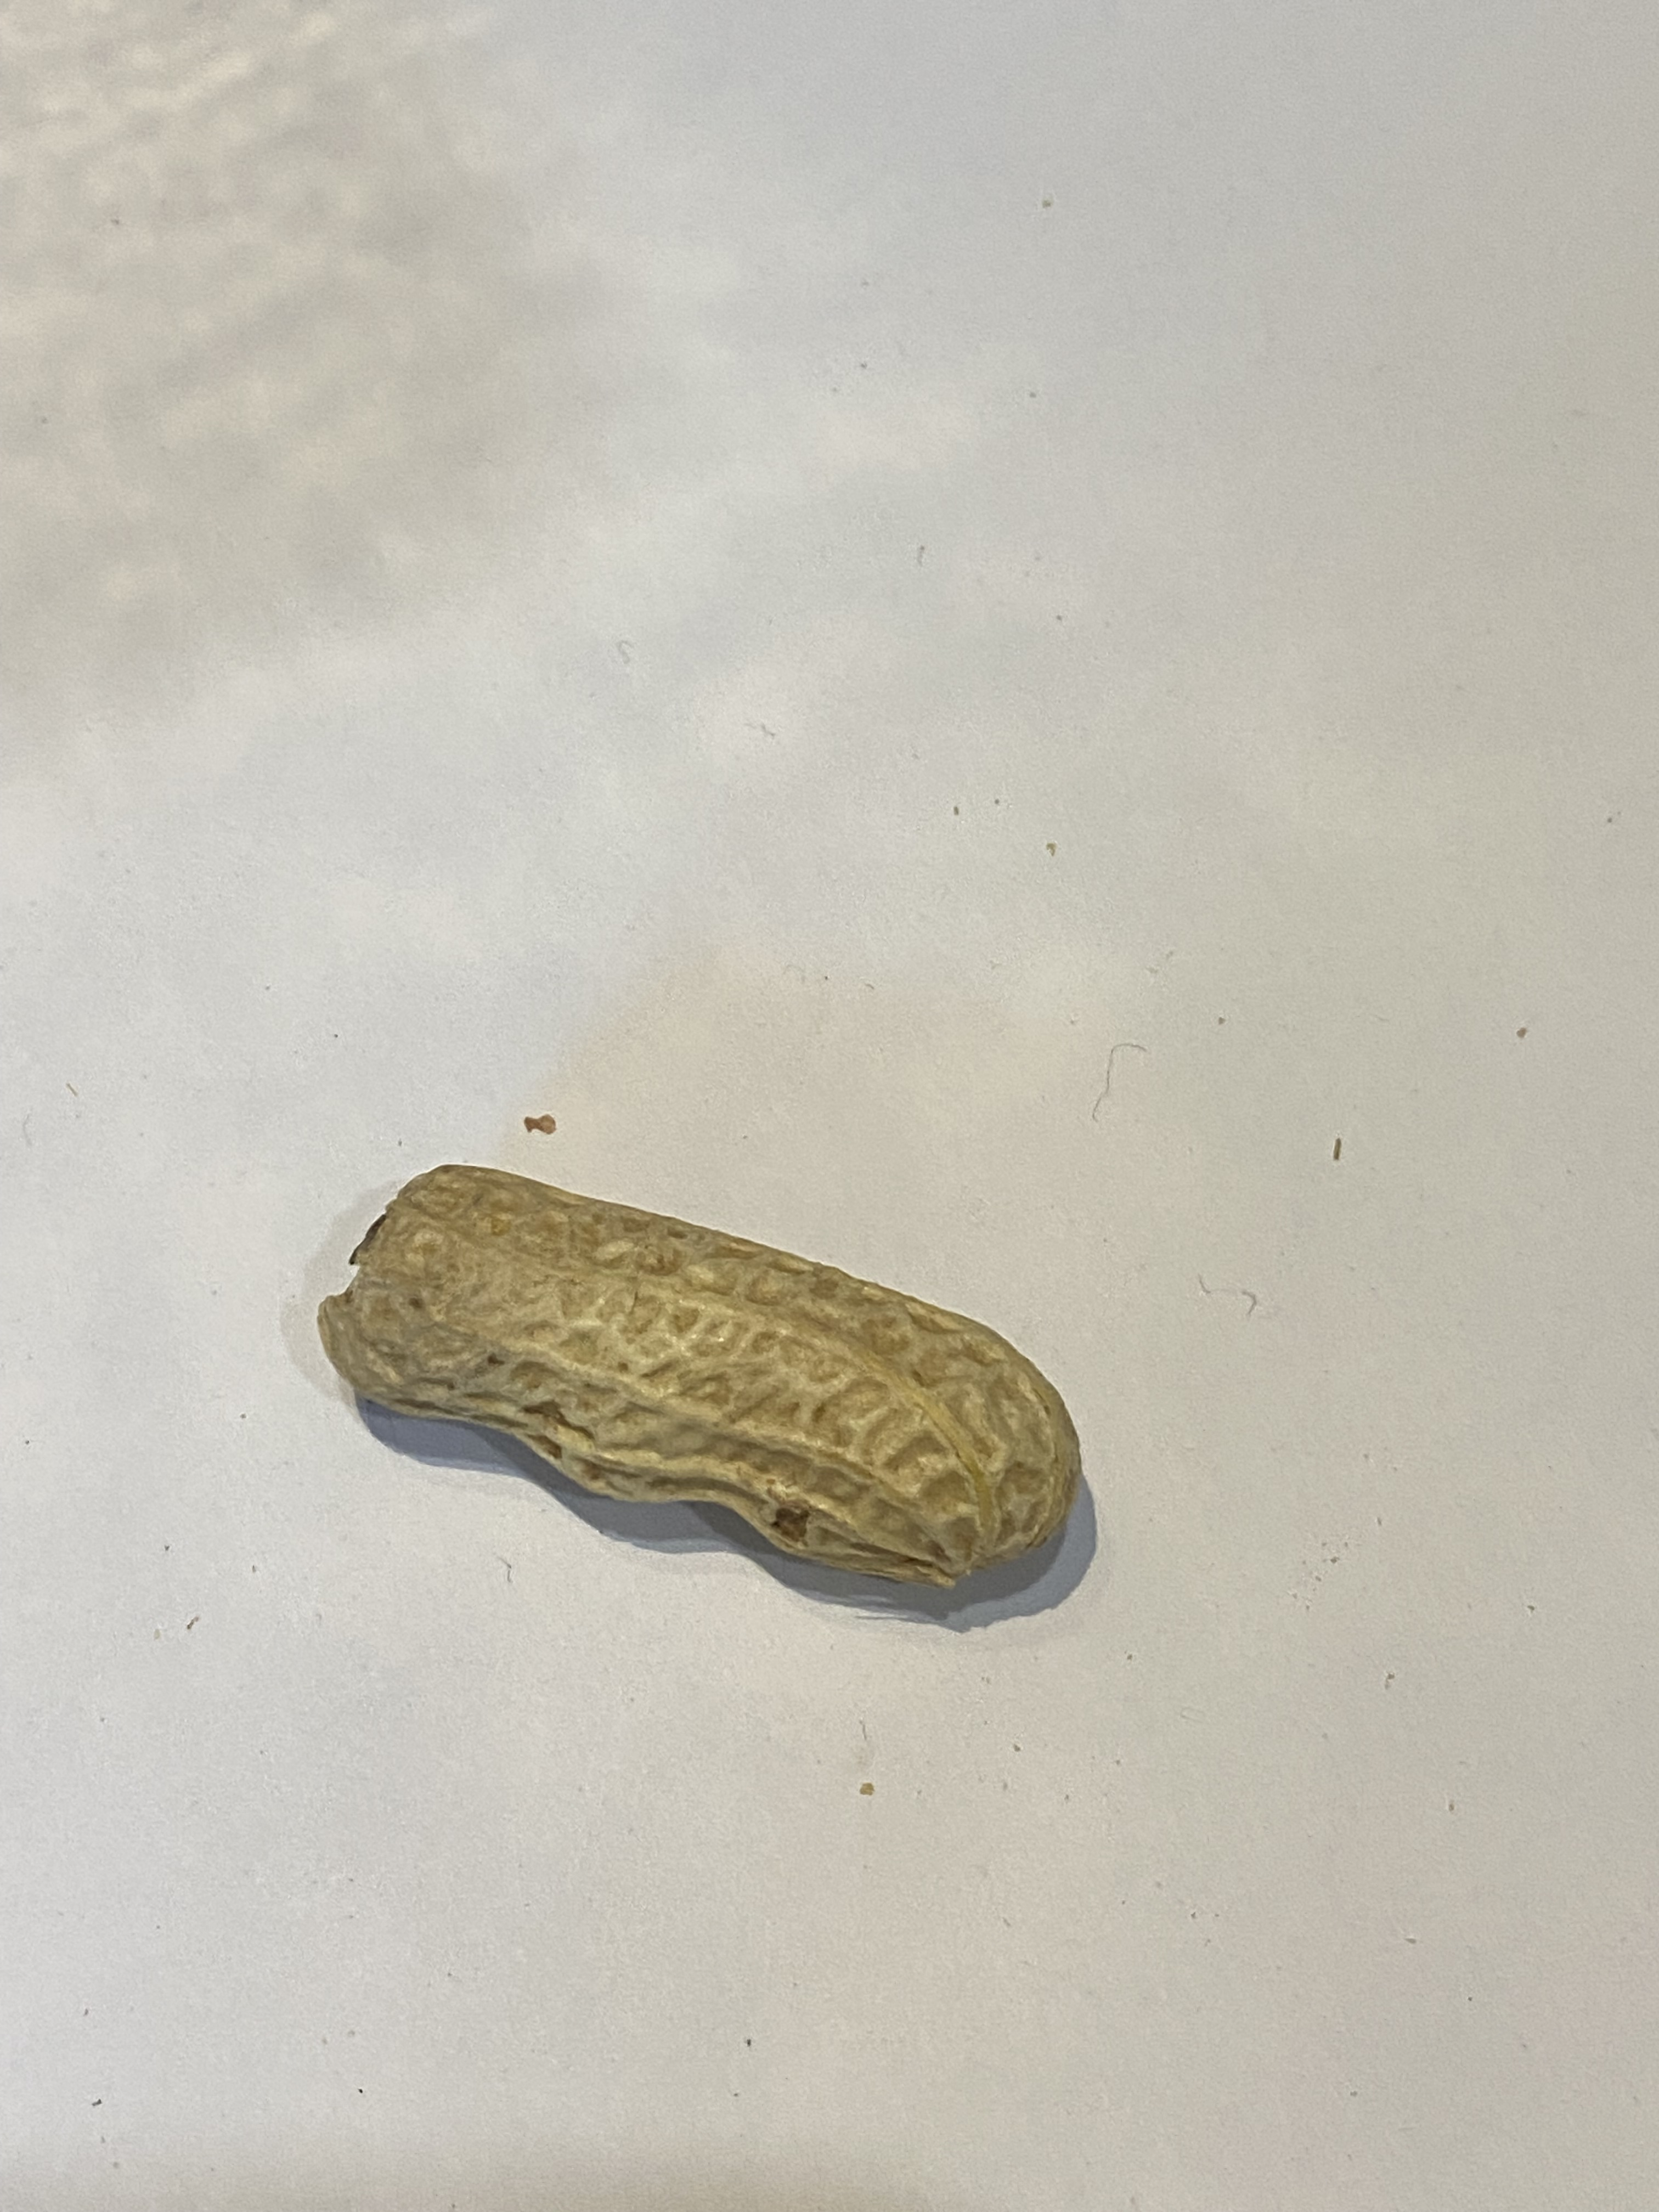kacang3: (300, 1120, 1105, 1696)
